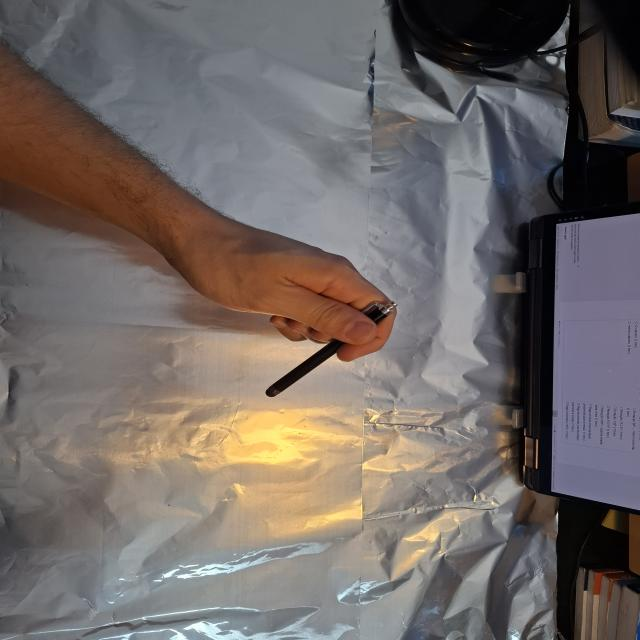glove_off: (165, 219, 400, 363)
